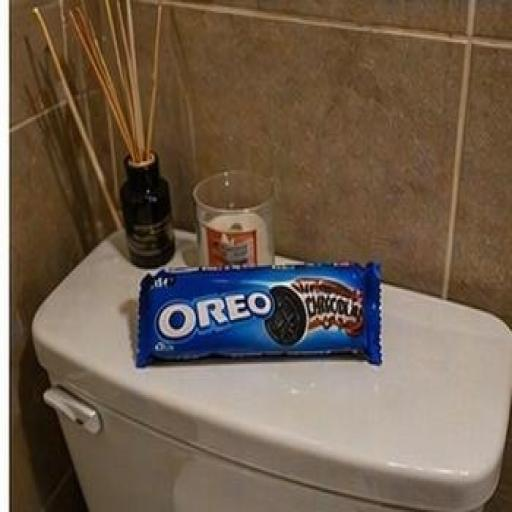oreo: (93, 204, 420, 413)
